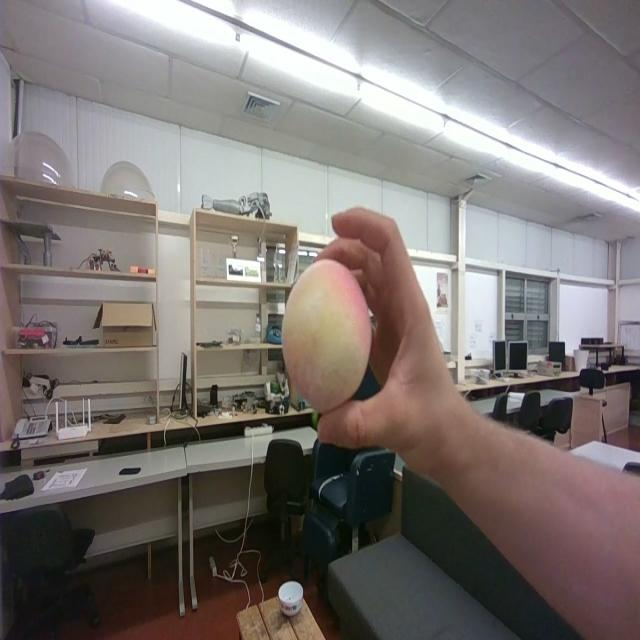peach: (282, 260, 371, 411)
